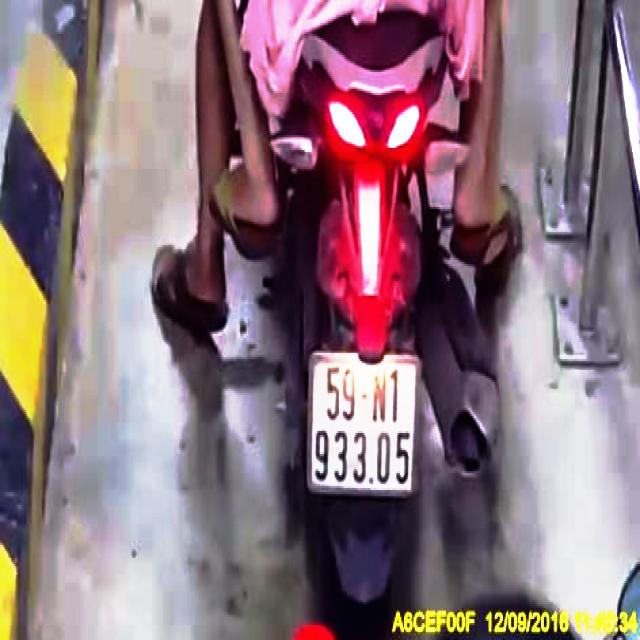license_plate: (310, 354, 424, 501)
